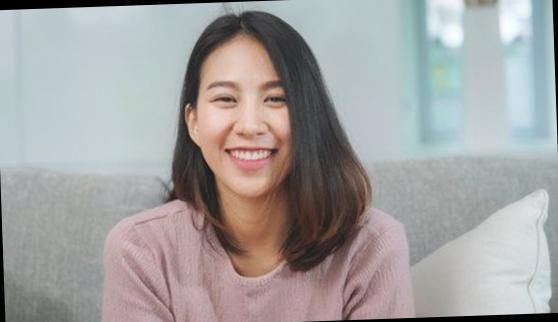Sober: (197, 56, 290, 179)
